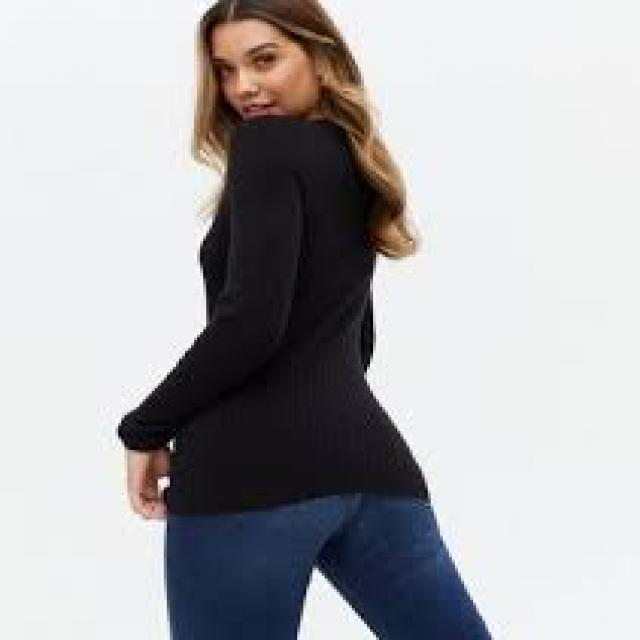plain: (100, 113, 424, 502)
